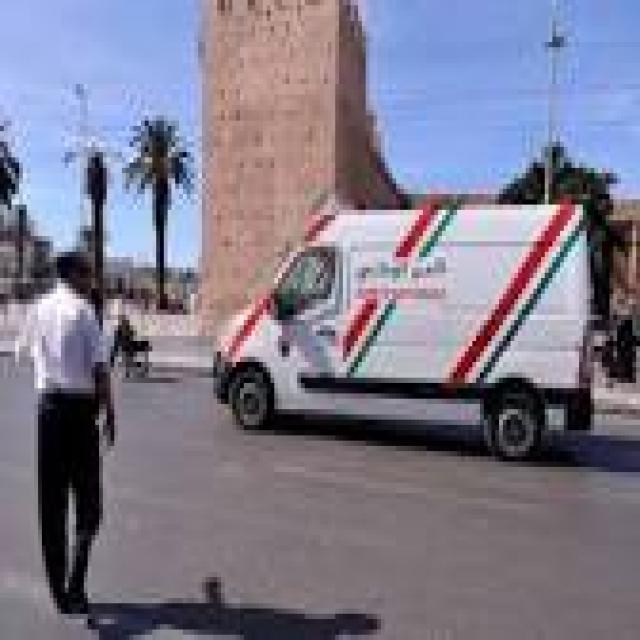police: (214, 202, 592, 459)
